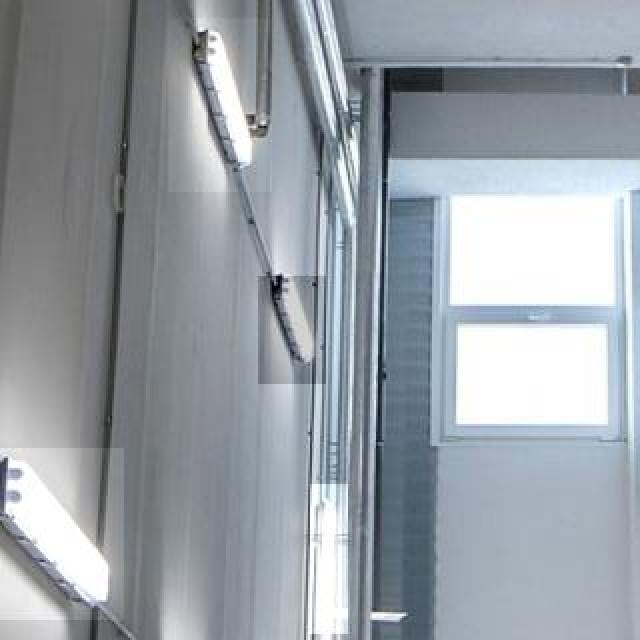fluorescent tube: (0, 454, 122, 616), (174, 19, 263, 177), (260, 265, 322, 382)
